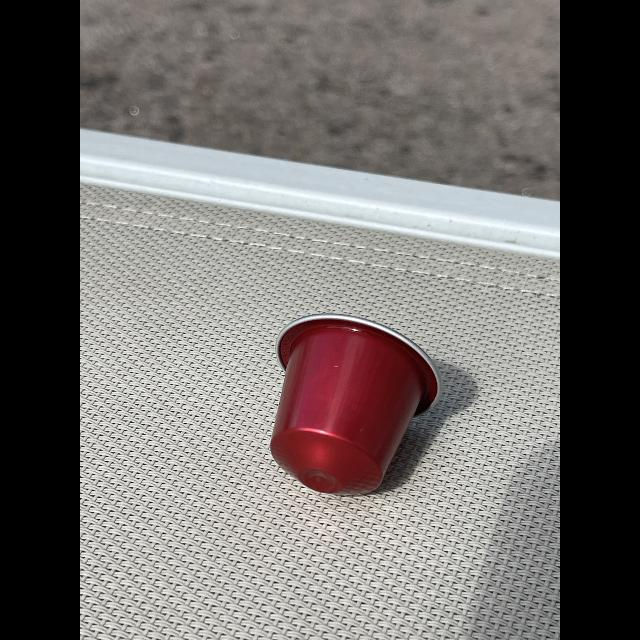intact_capsule: (262, 310, 458, 508)
